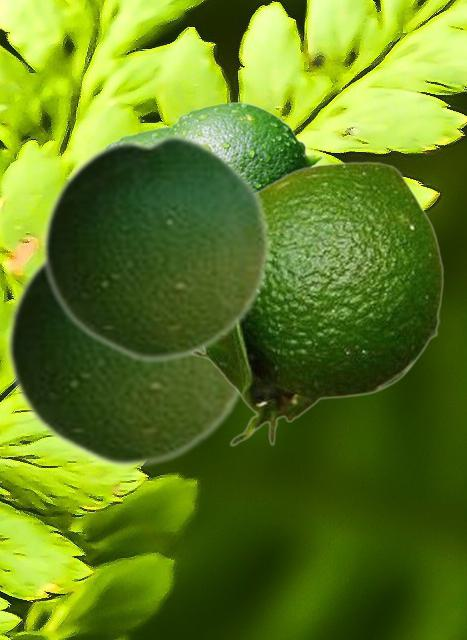dalandan: (197, 161, 443, 446), (40, 130, 271, 364), (4, 257, 243, 470), (166, 101, 322, 188)
